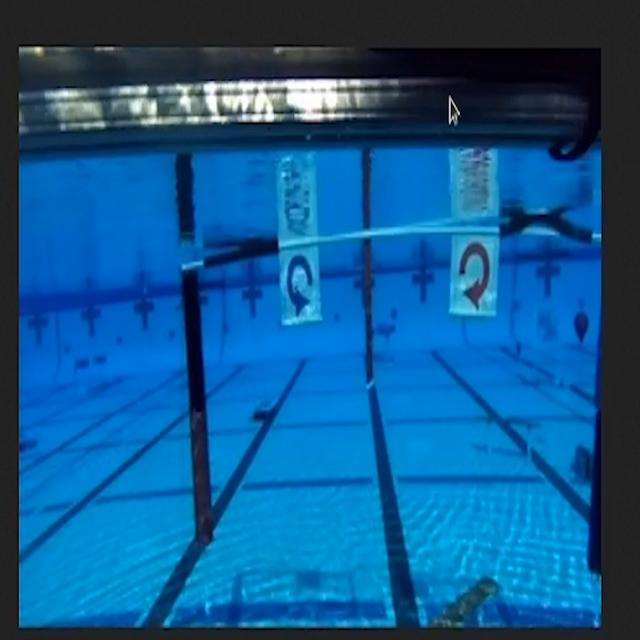Gate: (177, 234, 605, 535)
